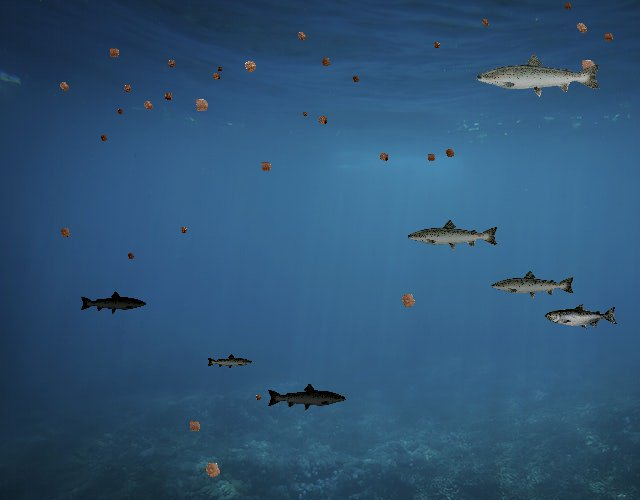Fish: (474, 52, 603, 98), (407, 218, 501, 252), (490, 269, 576, 300), (266, 383, 347, 412), (546, 304, 619, 330), (80, 290, 148, 314), (207, 353, 254, 370)
Pellet: (198, 454, 228, 484), (238, 54, 263, 79), (183, 415, 206, 438), (374, 147, 393, 166), (176, 223, 191, 238), (429, 38, 444, 52), (124, 249, 138, 263), (252, 392, 264, 404)
